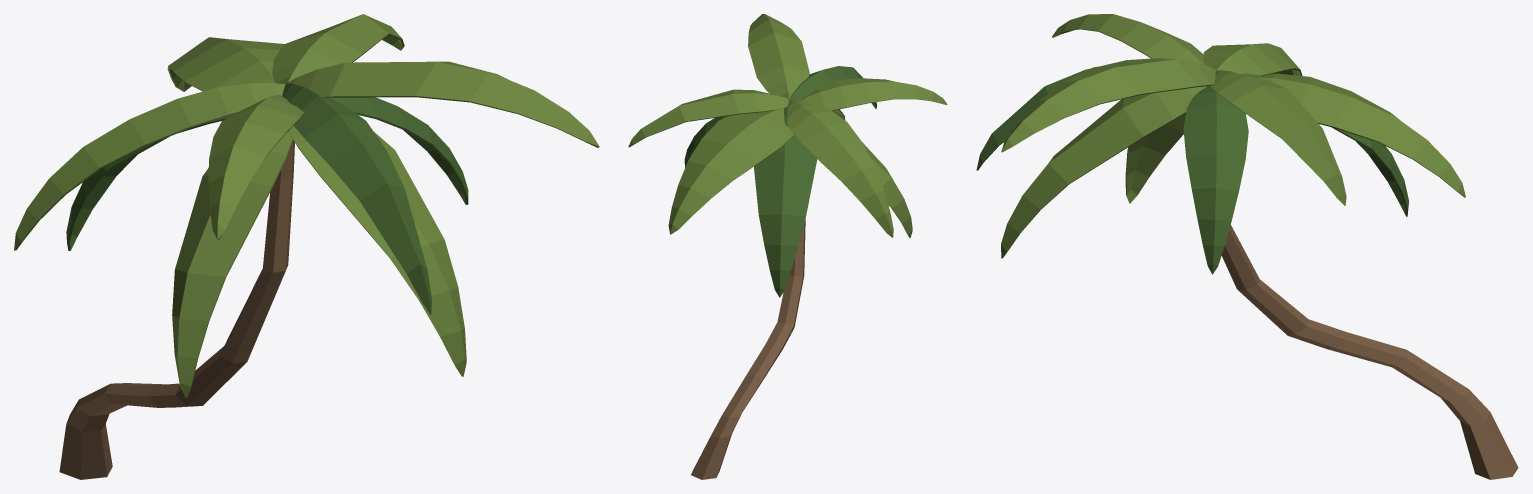
File: SRC_palm.glb
3 views of the same model, side by side, from view 1: azimuth 30°, elevation 25°; view 2: azimuth 150°, elevation 25°; view 3: azimuth 270°, elevation 25° (orthographic). The views are drawn at different scales.
Parts seen in each view (by area): view 1: SRC_palm; view 2: SRC_palm; view 3: SRC_palm.
Part boxes in pixels (bbox=[...]): SRC_palm: bbox=[14, 14, 599, 479]; SRC_palm: bbox=[628, 14, 947, 479]; SRC_palm: bbox=[976, 14, 1518, 479].
Size of the model in its own units: 2.32 by 2.91 by 3.18.
